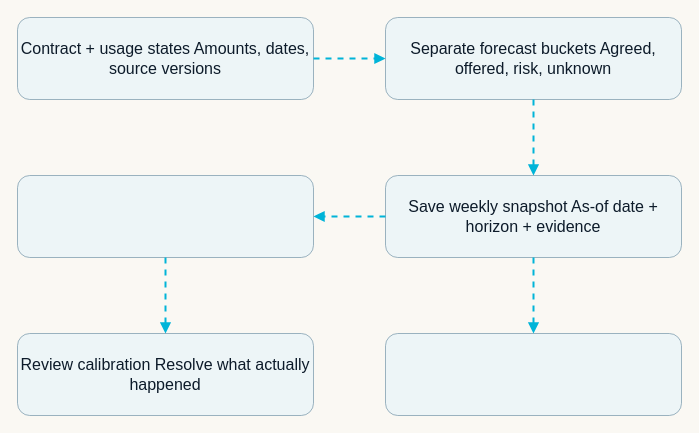
Image size: 699x433. Some labels were removed from this diagram. Each missing label, with the centre of its shape:
"Keep unresolved rows Overdue is not confirmed churn" goes at pixel 533 374.
"Match effective outcomes Stable outcome identity" goes at pixel 165 216.
